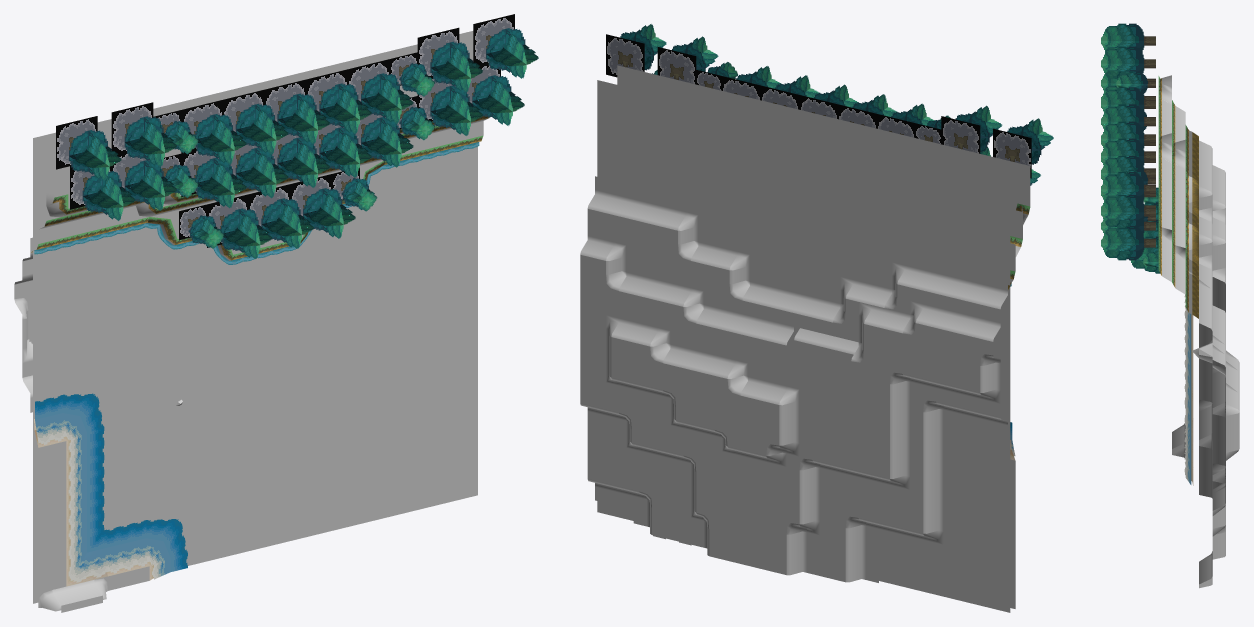
File: Barrier-Reef_05_07.obj
3 renders of one model, left to right at view 1: azimuth 30°, elevation 25°; view 2: azimuth 150°, elevation 25°; view 3: azimuth 270°, elevation 25°, orthographic. The views are drawn at different scales.
Visible parts, largest first — view 1: map; view 2: map; view 3: map.
Part boxes in pixels (x1,y1,x2,y2): map: (14,14,538,612); map: (580,24,1053,612); map: (1101,23,1239,588).
Size of the model in its own units: 33 by 34.12 by 10.75.
